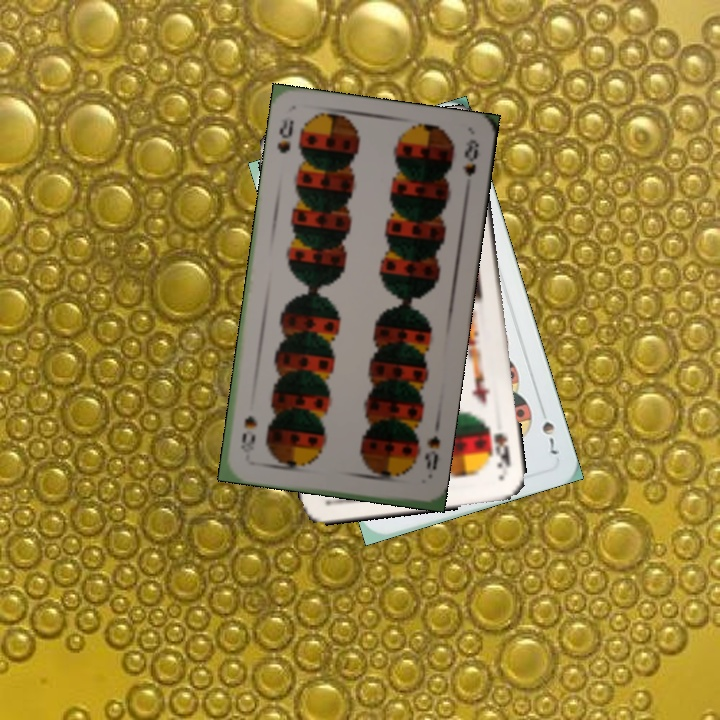S7: (538, 417, 561, 457)
S8: (420, 431, 443, 473), (273, 115, 296, 156)
SK: (490, 429, 513, 470)
